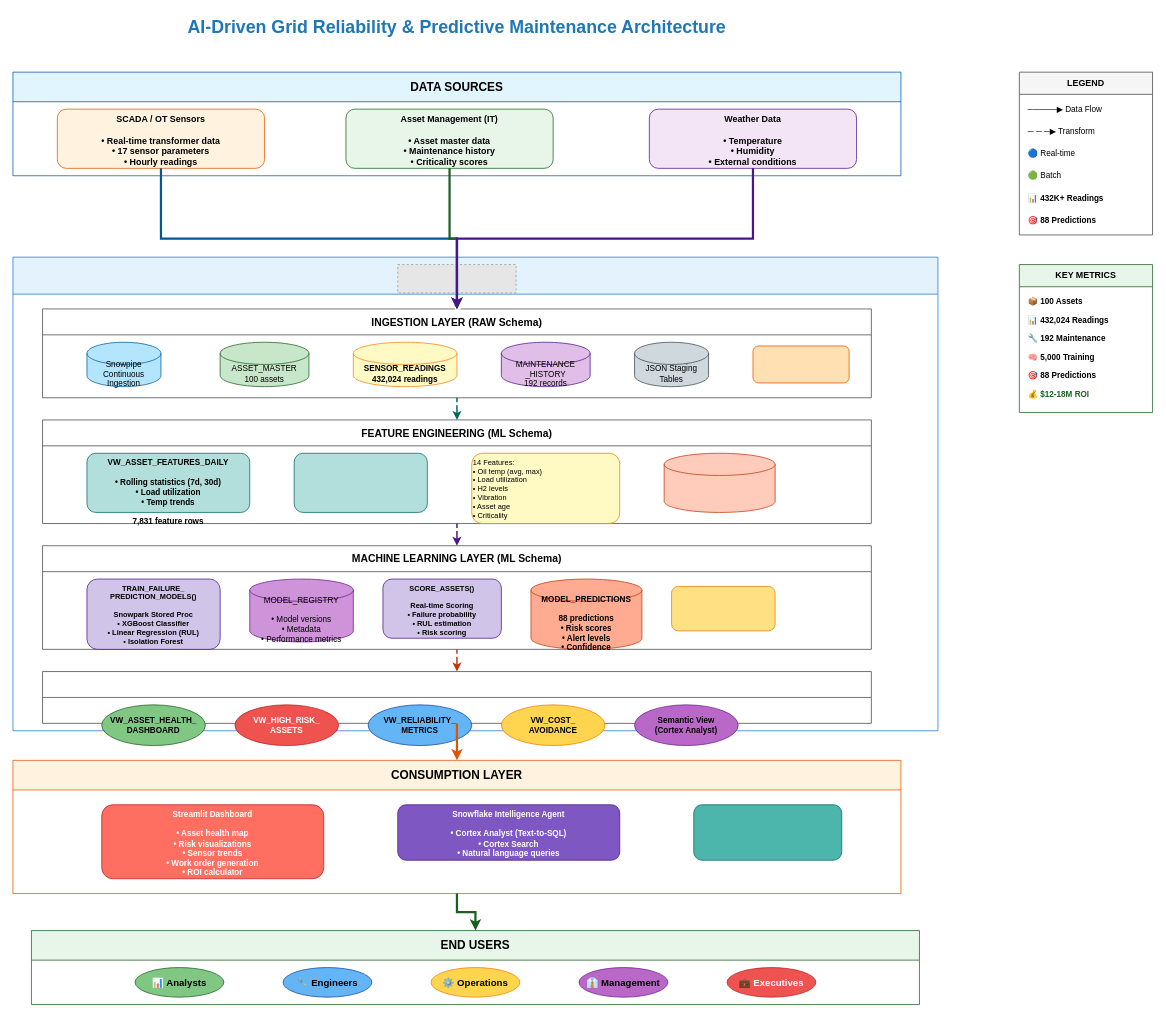
Image size: 1166x1018. Some labels were removed from this diagram. Grey dashed boxes stand in for pictures. Here are the shapes that lost their labels. From the top down, the centre of each, then its label:
At [800,364]: "UDFs • Asset Age • Days Since Maint".
At [360,482]: "VW_DEGRADATION_ INDICATORS • Trend analysis • DGA patterns • Vibration anomalies".
At [719,482]: "TRAINING_DATA 5,000 labeled samples JSON feature storage".
At [723,608]: "Rule-Based Models Production-ready scoring logic".
At [456,697]: "ANALYTICS LAYER (ANALYTICS Schema)".
At [767,832]: "Direct SQL Access • Snowsight queries • BI tools integration • API access".
